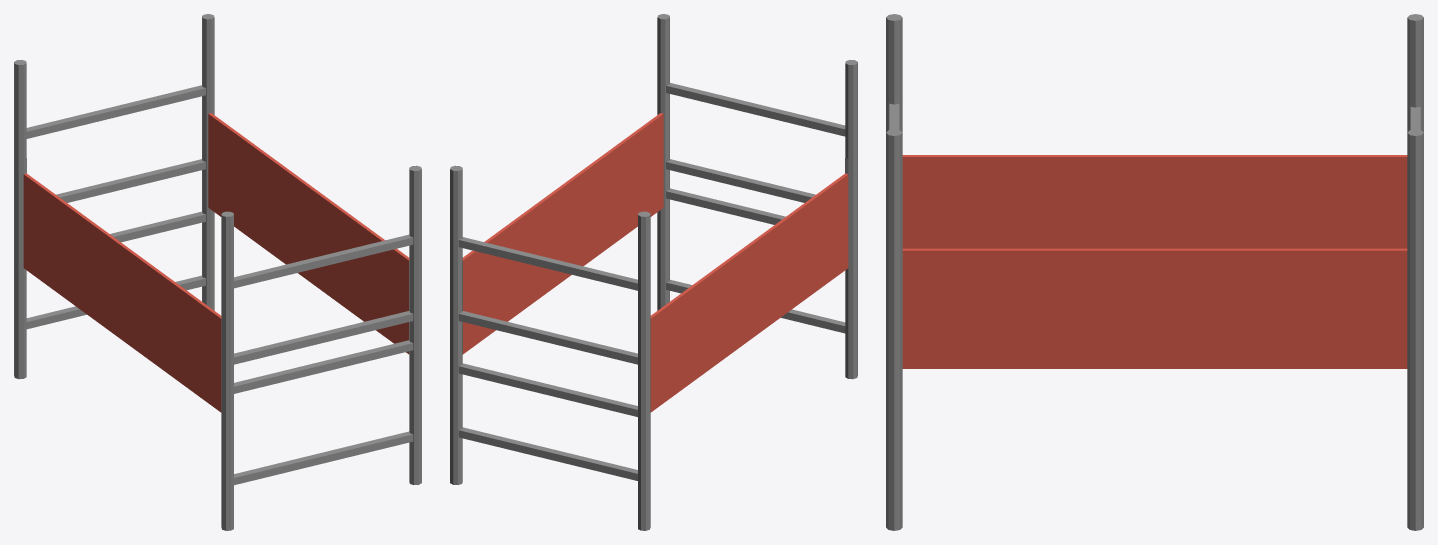
The model's file is andaime.glb.
The picture shows the model from 3 angles, left to right: view 1: azimuth 30°, elevation 25°; view 2: azimuth 150°, elevation 25°; view 3: azimuth 270°, elevation 25°; orthographic projection. The views are drawn at different scales.
Parts seen in each view (by area): view 1: andaime; view 2: andaime; view 3: andaime.
Part boxes in pixels (x1=…): andaime: x1=14, y1=14, x2=421, y2=530; andaime: x1=450, y1=14, x2=857, y2=530; andaime: x1=886, y1=14, x2=1423, y2=530.
Size of the model in its own units: 3.21 by 4.84 by 5.97.
